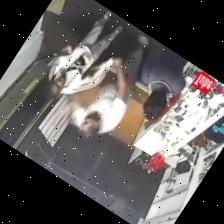person: (71, 35, 149, 138), (47, 11, 122, 97), (141, 45, 187, 119)
